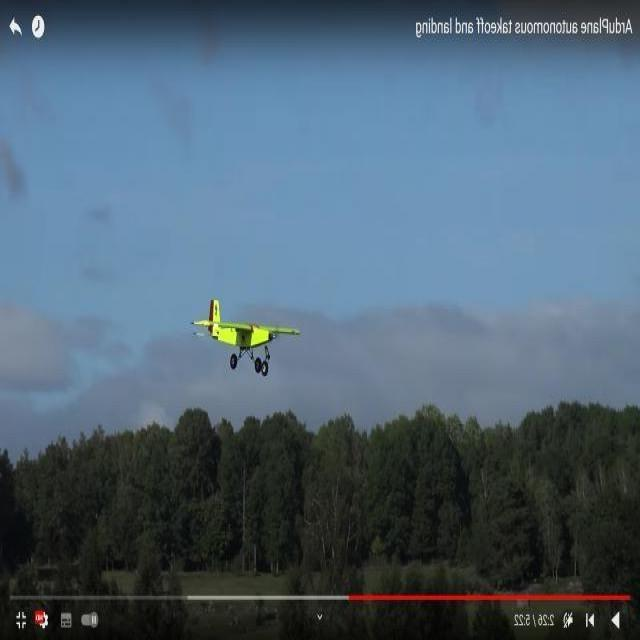Airplane: (188, 293, 318, 380)
